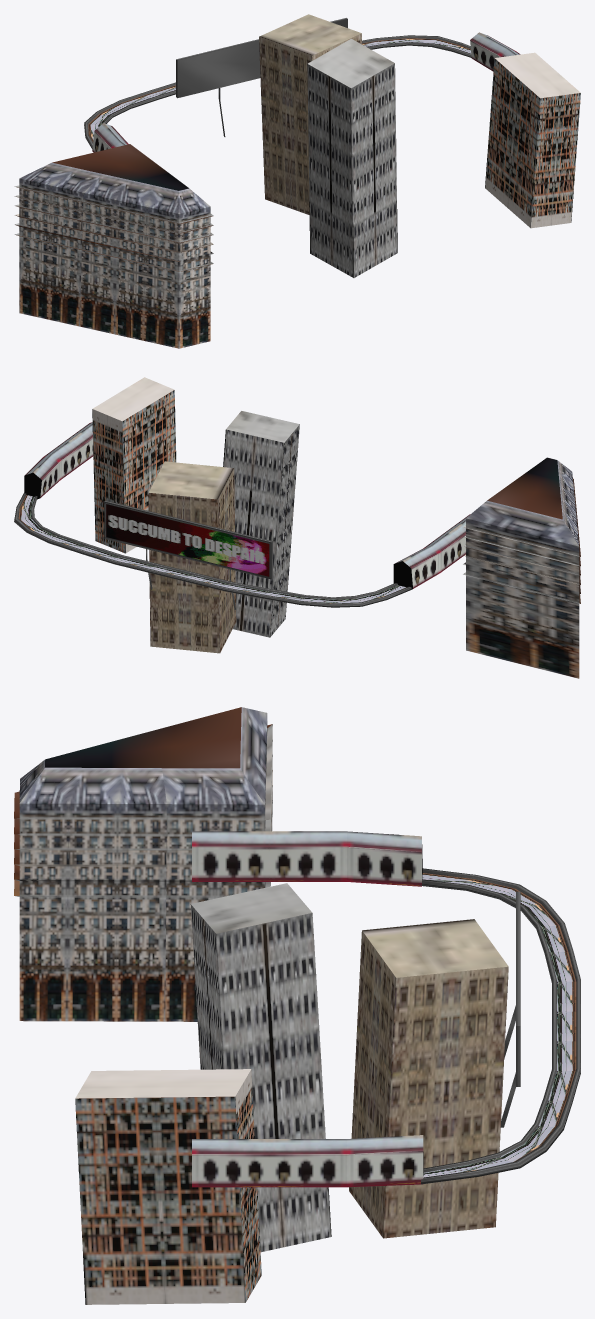
File: Building9.fbx
3 renders of one model, top to bottom at view 1: azimuth 30°, elevation 25°; view 2: azimuth 150°, elevation 25°; view 3: azimuth 270°, elevation 25°, orthographic. The views are drawn at different scales.
Visible parts, largest first — view 1: newassets_Traintrackalongright; view 2: newassets_Traintrackalongright; view 3: newassets_Traintrackalongright.
Boxes of the visible parts, x1,y1,x2,y2 form: newassets_Traintrackalongright: (14,14,580,348); newassets_Traintrackalongright: (14,377,580,678); newassets_Traintrackalongright: (14,707,580,1304).
Bounding box in the file's own units: 40734 × 15494 × 23539.
4 materials, 4 textured.
